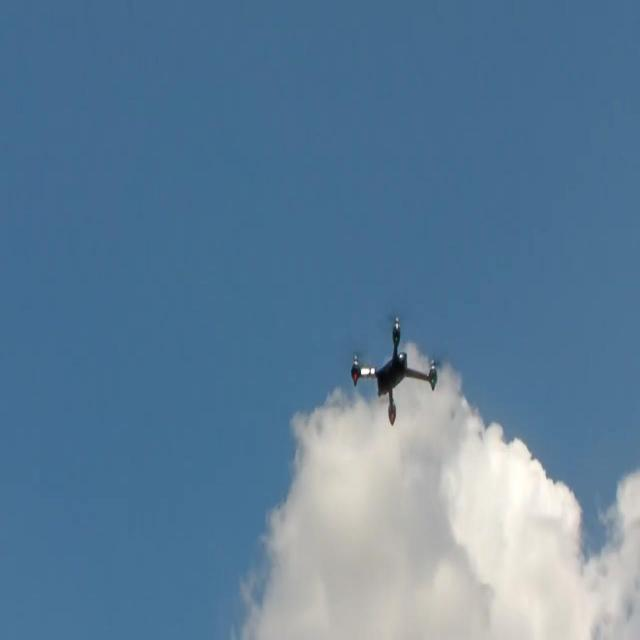UAV: (350, 313, 440, 428)
